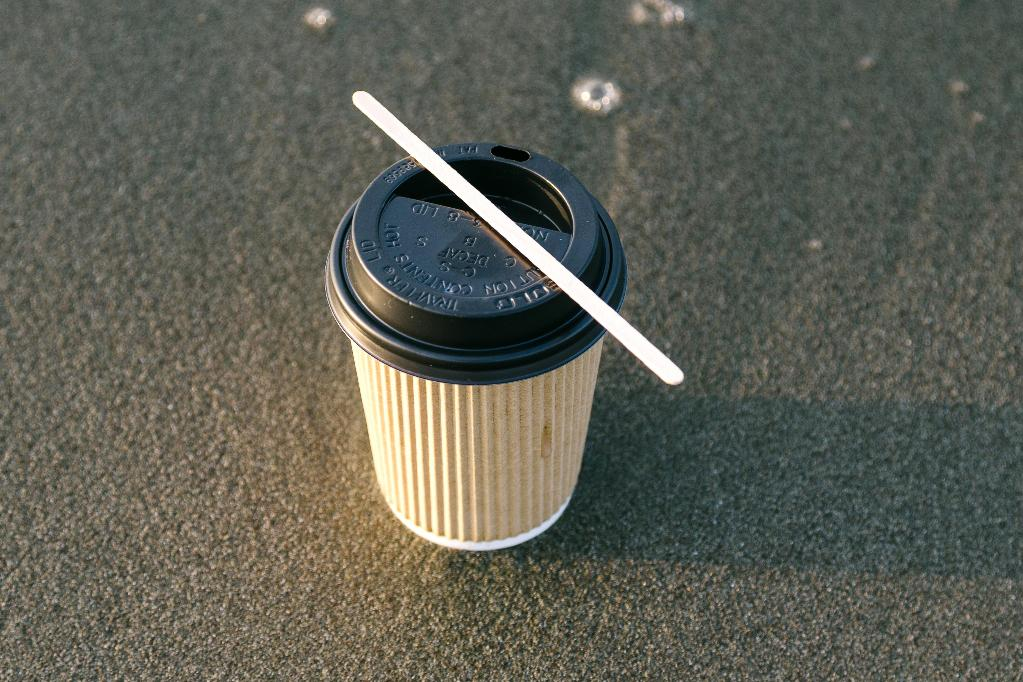garbage: (276, 82, 714, 619)
